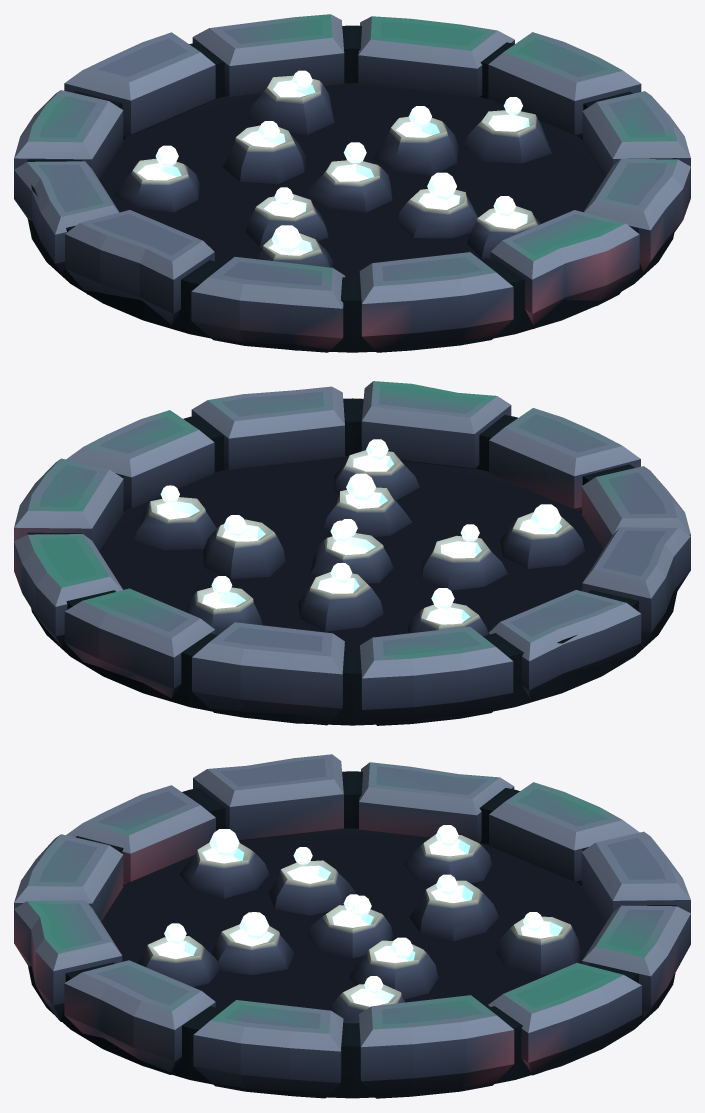
Rendered from updraft_vent_underwater.glb.
3 renders of one model, top to bottom at view 1: azimuth 30°, elevation 25°; view 2: azimuth 150°, elevation 25°; view 3: azimuth 270°, elevation 25°, orthographic.
Visible parts, largest first — view 1: updraft_vent_underwater; view 2: updraft_vent_underwater; view 3: updraft_vent_underwater.
Boxes of the visible parts, x1,y1,x2,y2 form: updraft_vent_underwater: [14, 14, 690, 352]; updraft_vent_underwater: [14, 381, 690, 725]; updraft_vent_underwater: [14, 754, 690, 1098].
Size of the model in its own units: 2.6 by 0.3 by 2.6.
